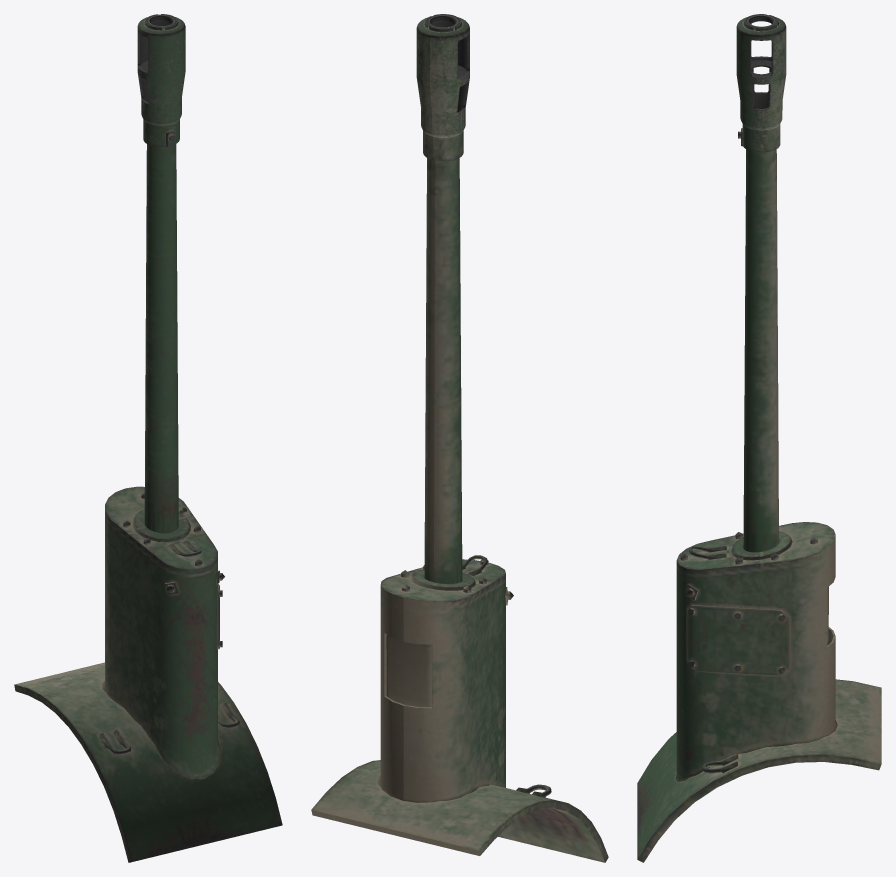
The model's file is Gun_02.glb.
The picture shows the model from 3 angles, left to right: view 1: azimuth 30°, elevation 25°; view 2: azimuth 150°, elevation 25°; view 3: azimuth 270°, elevation 25°; orthographic projection. The views are drawn at different scales.
Visible parts, largest first — view 1: set_0_group_0; view 2: set_0_group_0; view 3: set_0_group_0.
Part boxes in pixels (x1,y1,x2,y2): set_0_group_0: (14,14,282,862); set_0_group_0: (311,14,608,862); set_0_group_0: (637,14,881,862).
Bounding box in the file's own units: 0.5852 × 2.88 × 0.7867.
Materials: 1 (1 with a texture image).
